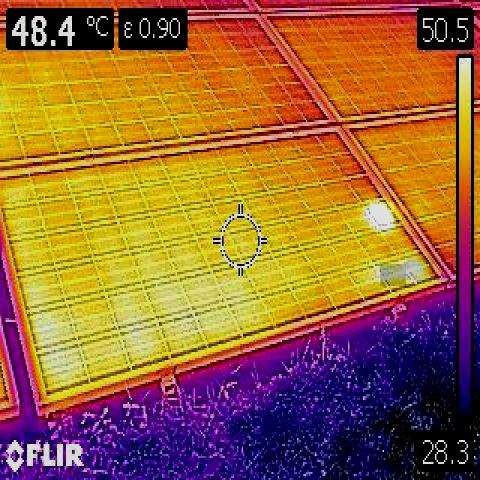fault: (406, 256, 433, 280), (370, 202, 394, 228), (380, 264, 406, 286)
